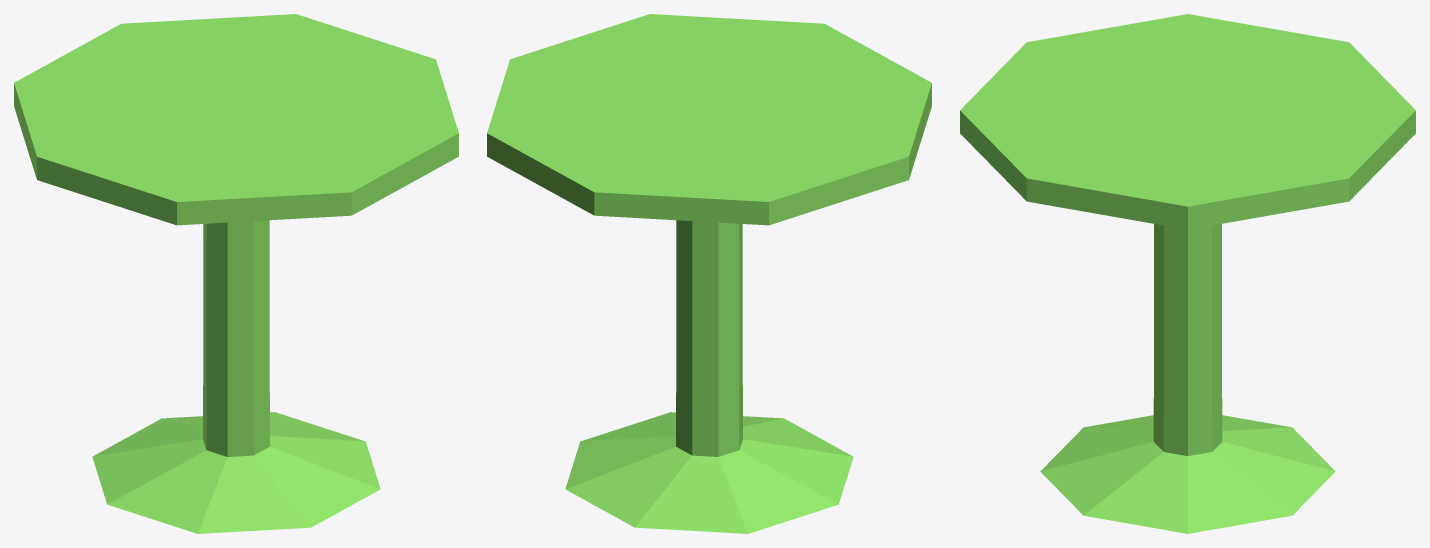
The model's file is Table__tex.fbx.
The picture shows the model from 3 angles, left to right: view 1: azimuth 30°, elevation 25°; view 2: azimuth 150°, elevation 25°; view 3: azimuth 270°, elevation 25°; orthographic projection.
Parts seen in each view (by area): view 1: Table._tex; view 2: Table._tex; view 3: Table._tex.
Boxes of the visible parts, left/top/right/bottom form: Table._tex: left=14, top=14, right=458, bottom=533; Table._tex: left=487, top=14, right=931, bottom=533; Table._tex: left=960, top=14, right=1415, bottom=533.
Bounding box in the file's own units: 0.7054 × 0.6167 × 0.7054.
